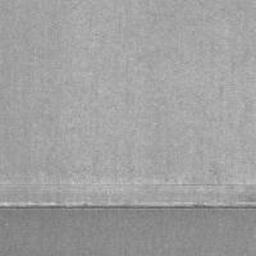Welding line: (0, 198, 256, 211)
